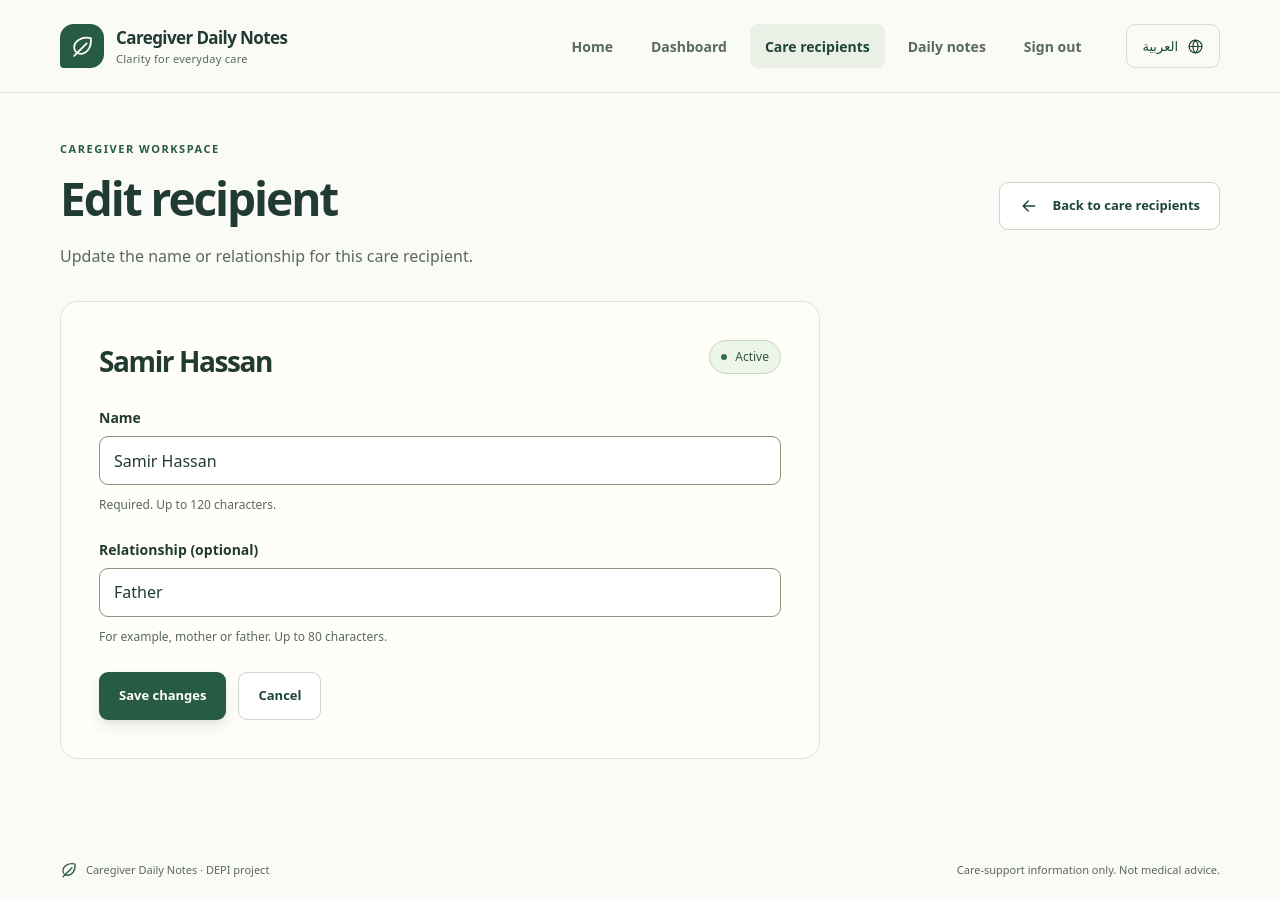
care recipients screens › reloads an inactive conflict without silently losing the entered values
This screenshot has width=1280, height=900.
Step 1. Replace the text in the field labelled "Name" with "Unsaved name" → (440, 461), box x1=99 y1=436 x2=781 y2=485
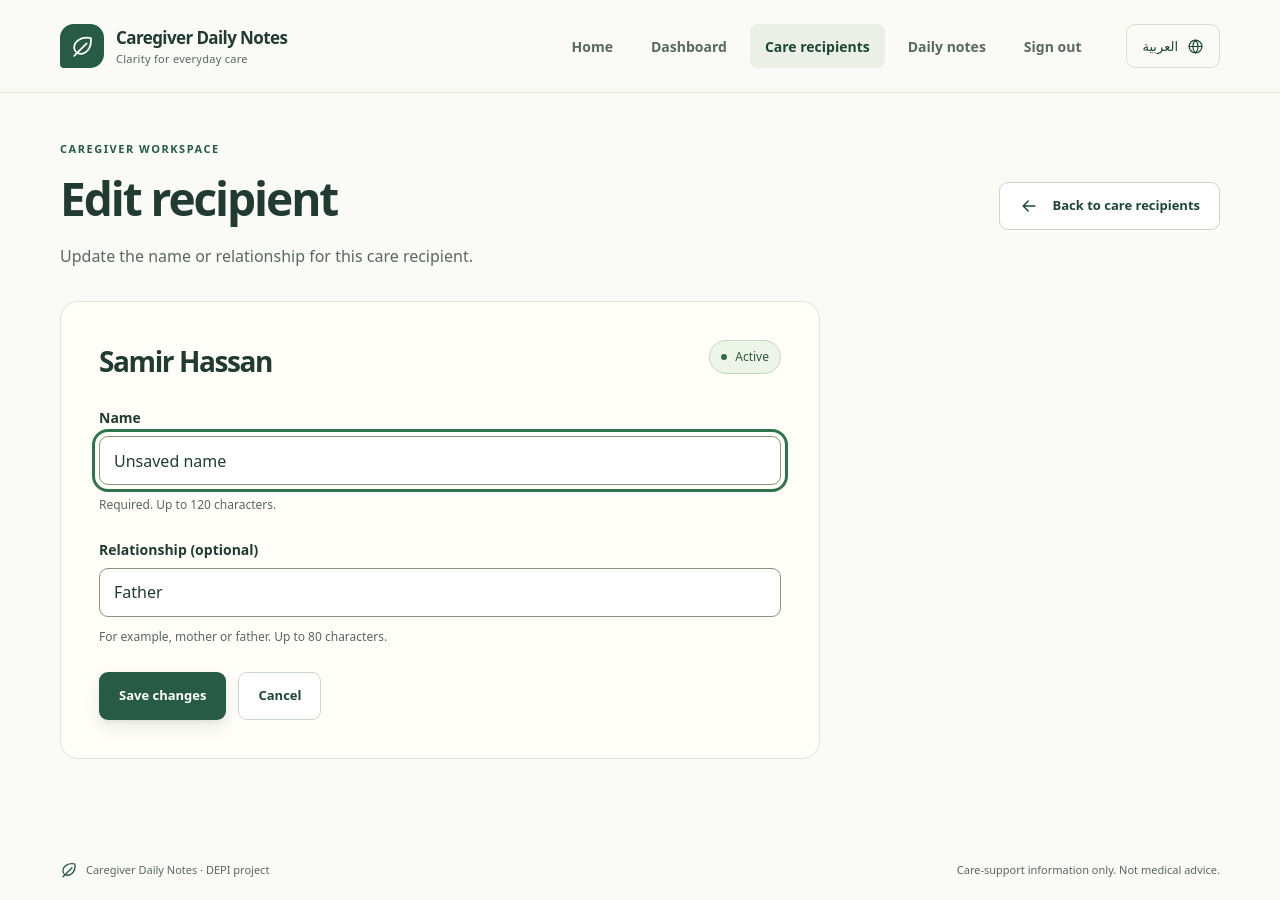
Step 2. Click the button "Save changes" → (163, 696), box x1=99 y1=672 x2=226 y2=720
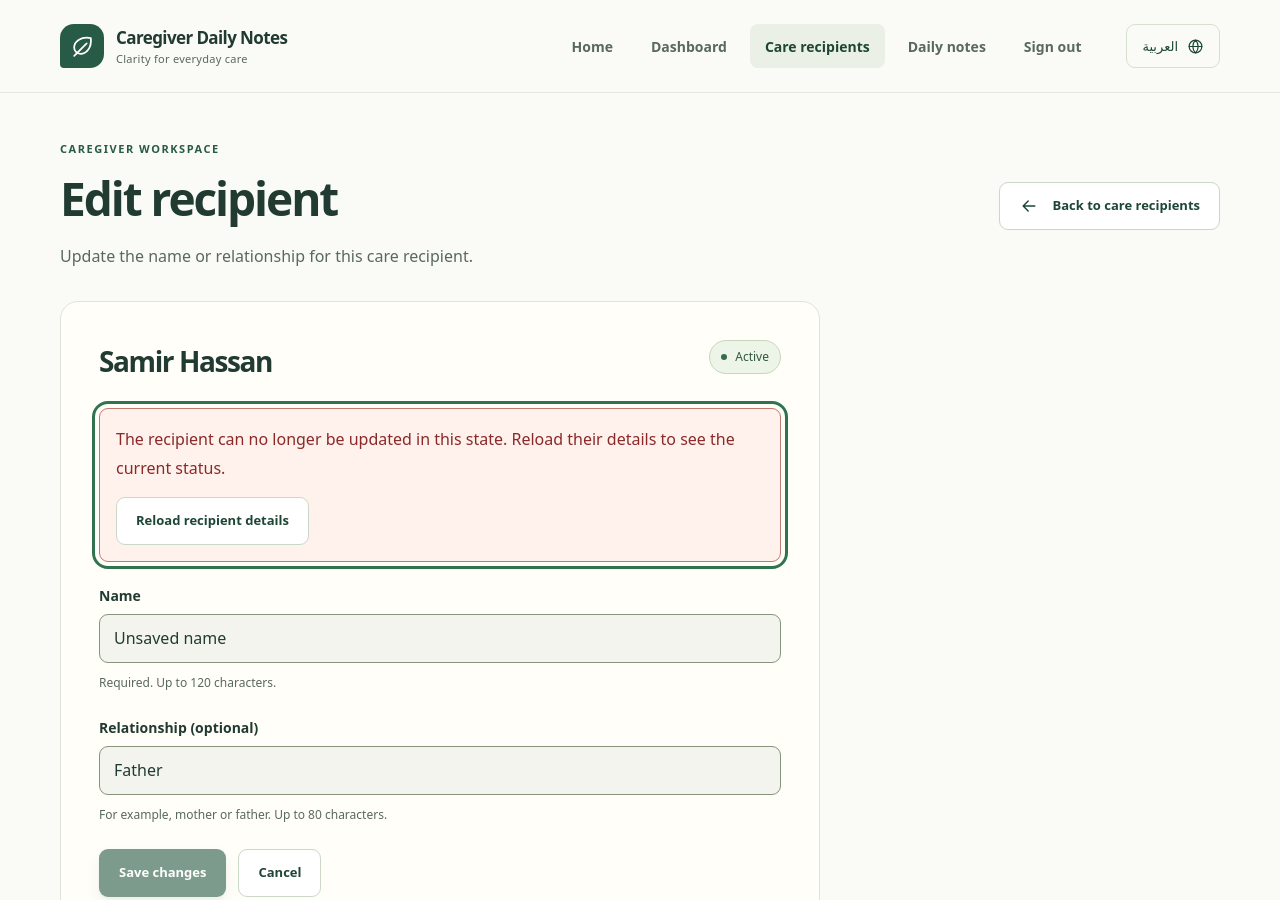
Result: the message shows "The recipient can no longer be updated" at x1=116 y1=428 x2=735 y2=479
Result: the button "Save changes" is disabled at x1=99 y1=849 x2=226 y2=897
Step 3. Click the button "Reload recipient details" → (212, 521), box x1=116 y1=497 x2=309 y2=545
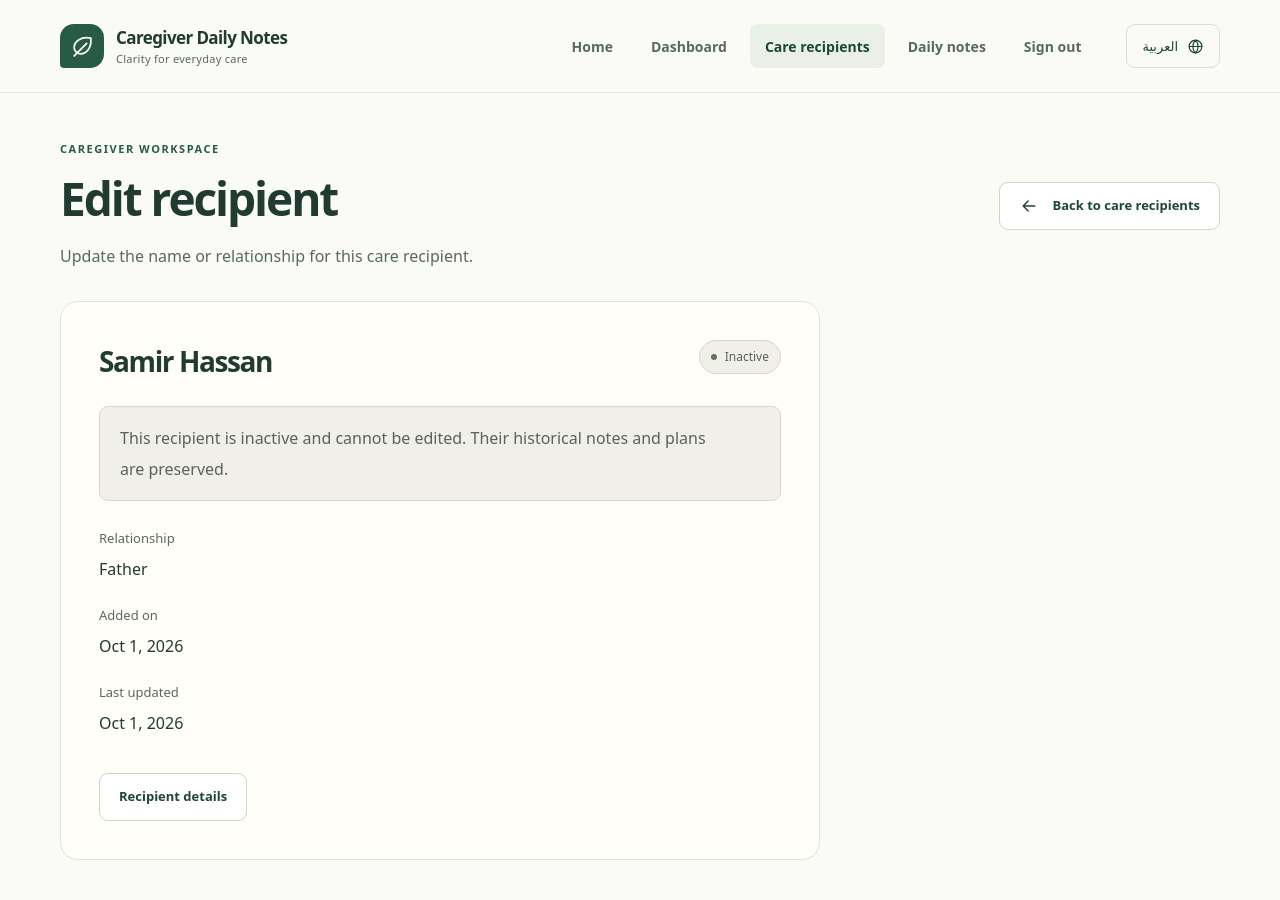
Result: the text "Inactive" is shown at x1=699 y1=340 x2=781 y2=374
Result: the form is gone
Result: the text "Their historical notes and plans are preserved" is shown at x1=120 y1=427 x2=706 y2=480
